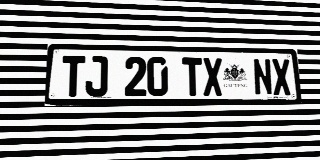0: (147, 57, 168, 96)
2: (125, 56, 146, 96)
J: (85, 56, 108, 97)
N: (252, 58, 273, 96)
T: (61, 55, 85, 97), (182, 57, 203, 96)
X: (202, 58, 223, 96), (271, 59, 292, 95)
